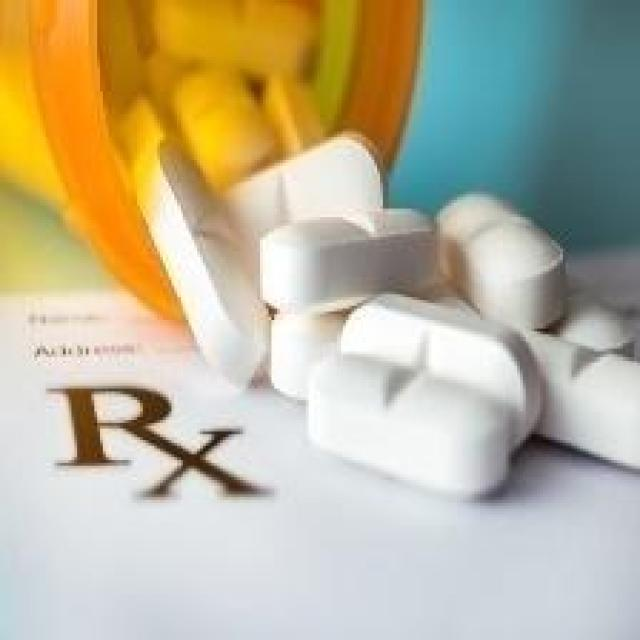Medicine: (26, 0, 640, 501)
